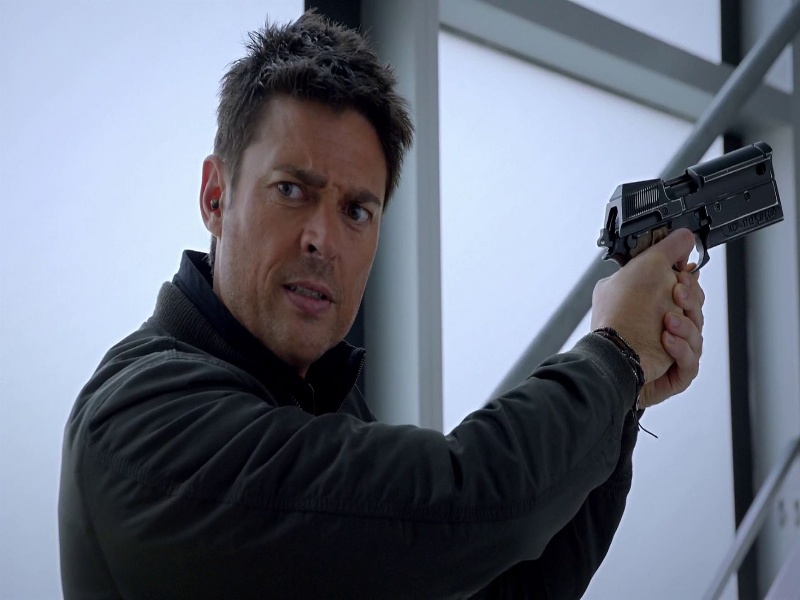person: (57, 9, 704, 600)
weapon: (597, 142, 783, 273)
